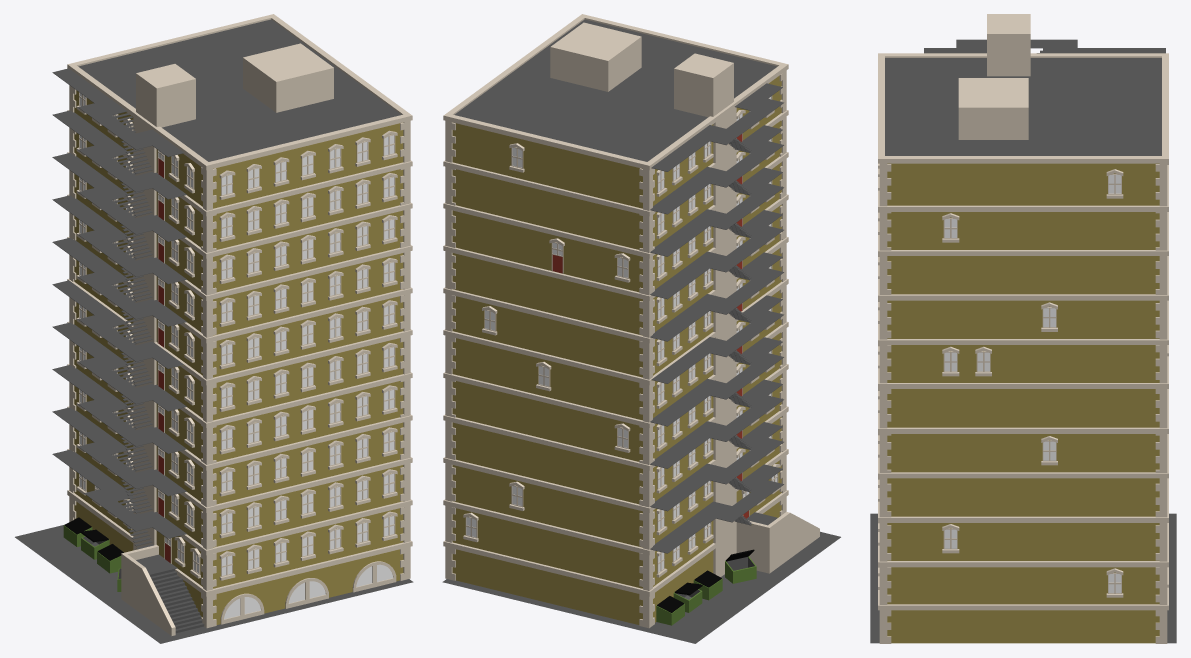
Rendered from 1x1_Apartments.col.glb.
3 renders of one model, left to right at view 1: azimuth 30°, elevation 25°; view 2: azimuth 150°, elevation 25°; view 3: azimuth 270°, elevation 25°, orthographic. The views are drawn at different scales.
Parts seen in each view (by area): view 1: 1x1_Apartments.col; view 2: 1x1_Apartments.col; view 3: 1x1_Apartments.col.
Part boxes in pixels (bbox=[...]): 1x1_Apartments.col: bbox=[15, 14, 413, 643]; 1x1_Apartments.col: bbox=[442, 14, 840, 643]; 1x1_Apartments.col: bbox=[870, 14, 1176, 643].
Bounding box in the file's own units: 20.21 × 37.9 × 20.
